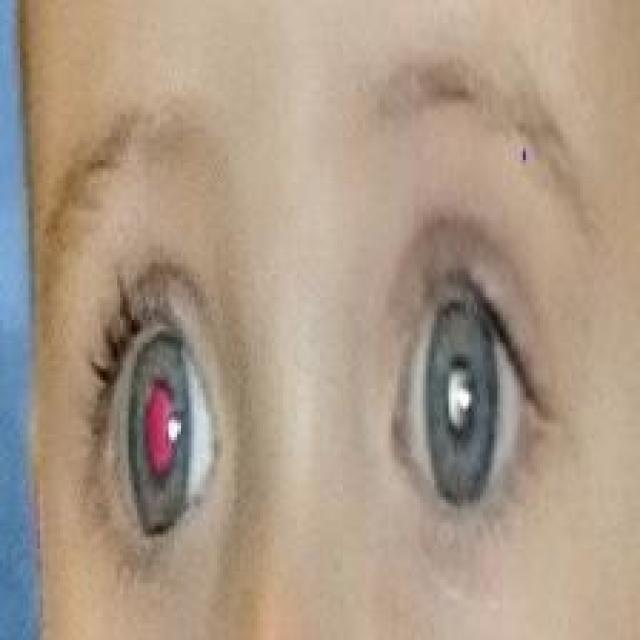reflexo-normal: (389, 286, 559, 543), (76, 299, 226, 549)
